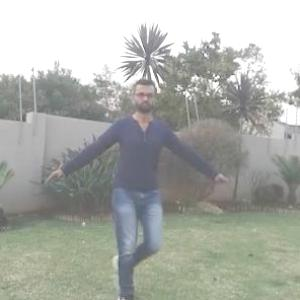land: (71, 100, 197, 254)
